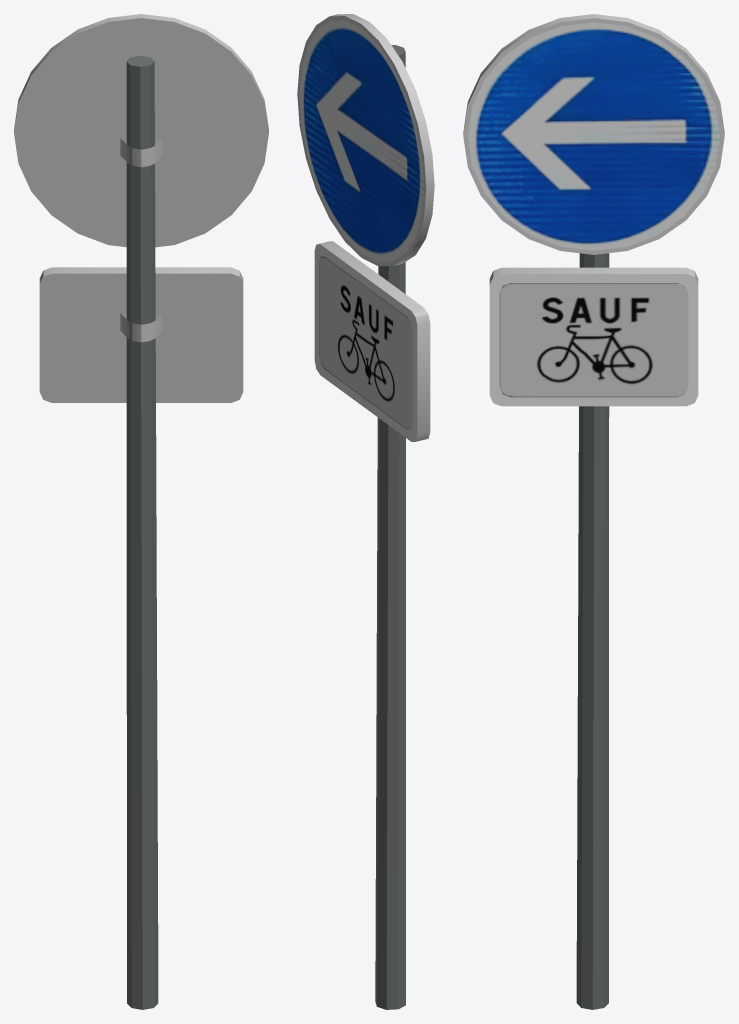
File: SM_MetalPole_04.fbx
3 views of the same model, side by side, from view 1: azimuth 90°, elevation 25°; view 2: azimuth 210°, elevation 25°; view 3: azimuth 270°, elevation 25° (orthographic). The views are drawn at different scales.
Parts seen in each view (by area): view 1: SM_MetalPole_04; view 2: SM_MetalPole_04; view 3: SM_MetalPole_04.
Boxes of the visible parts, x1,y1,x2,y2 form: SM_MetalPole_04: (14,14,268,1009); SM_MetalPole_04: (297,14,434,1009); SM_MetalPole_04: (463,14,724,1009).
Size of the model in its own units: 0.1237 by 2.69 by 0.6376.
